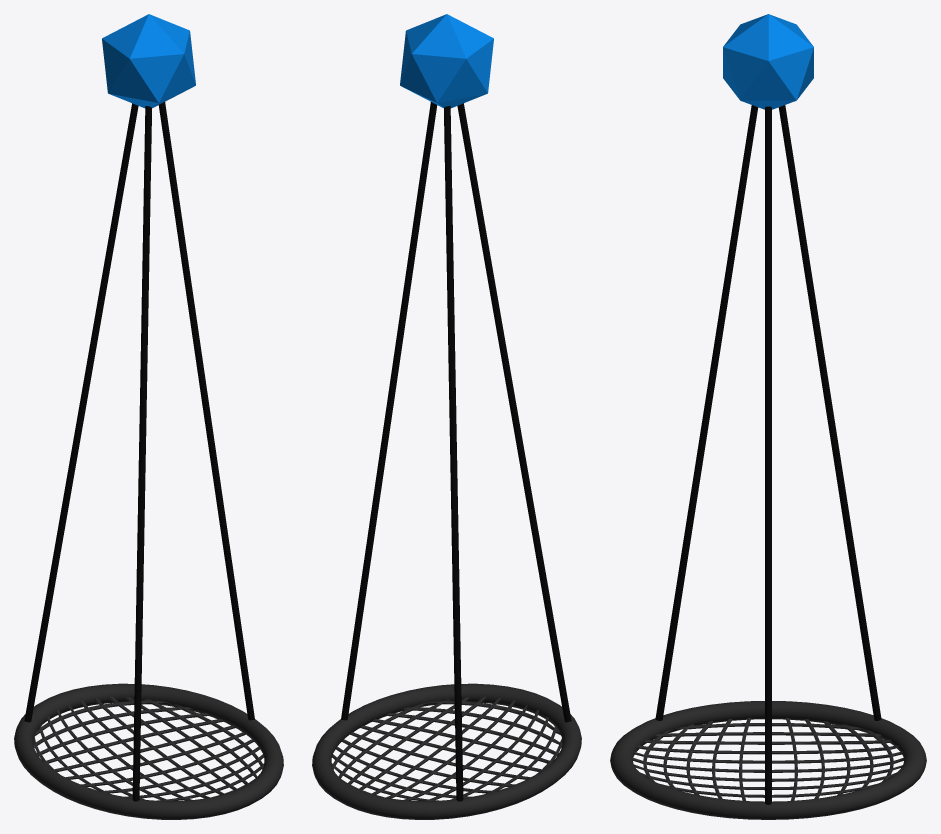
File: Bird nest swing.glb
3 renders of one model, left to right at view 1: azimuth 30°, elevation 25°; view 2: azimuth 150°, elevation 25°; view 3: azimuth 270°, elevation 25°, orthographic.
Visible parts, largest first — view 1: Cylinder.005, Torus.001, Torus.003, Joint.014; view 2: Cylinder.005, Torus.001, Torus.003, Joint.014; view 3: Cylinder.005, Torus.001, Torus.003, Joint.014.
Part boxes in pixels (x1,y1,x2,y2): Cylinder.005: [24, 102, 254, 801]; Torus.001: [14, 683, 283, 819]; Torus.003: [33, 696, 264, 800]; Joint.014: [102, 14, 195, 108]; Cylinder.005: [341, 102, 571, 801]; Torus.001: [312, 683, 581, 819]; Torus.003: [331, 696, 562, 800]; Joint.014: [400, 14, 493, 108]; Cylinder.005: [655, 105, 881, 804]; Torus.001: [610, 701, 926, 819]; Torus.003: [632, 717, 904, 800]; Joint.014: [723, 14, 813, 109].
Size of the model in its own units: 0.7302 by 2.38 by 0.9005.
